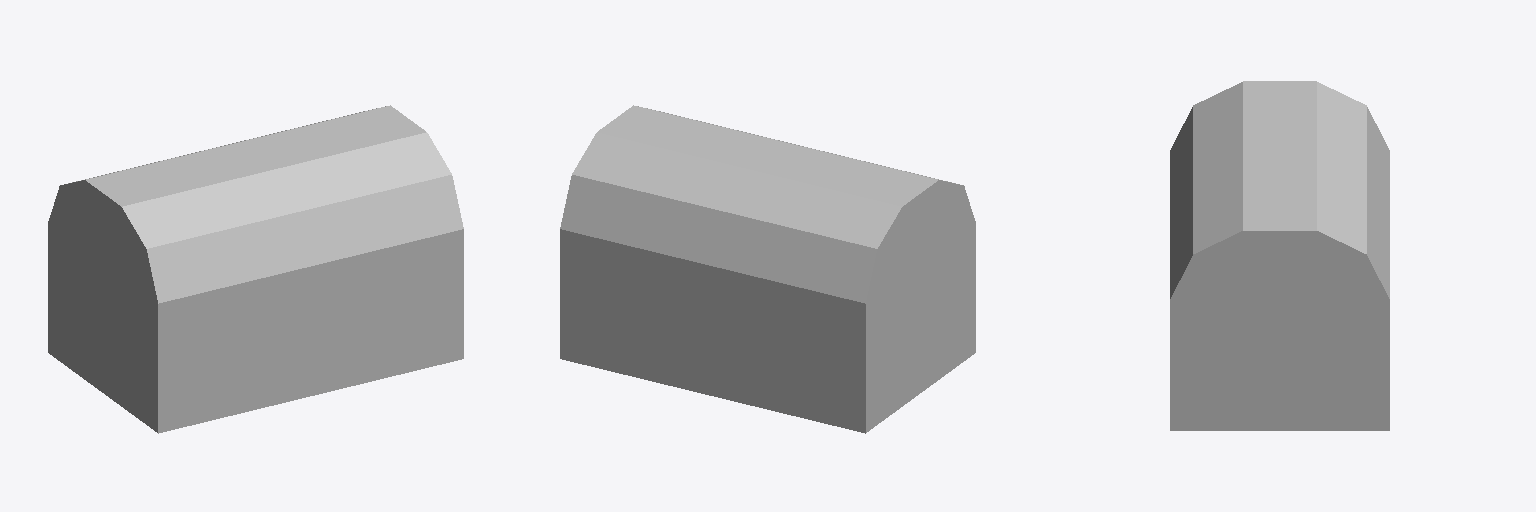
Rendered from chest_3_001.obj.
3 views of the same model, side by side, from view 1: azimuth 30°, elevation 25°; view 2: azimuth 150°, elevation 25°; view 3: azimuth 270°, elevation 25° (orthographic).
Parts seen in each view (by area): view 1: chest_1; view 2: chest_1; view 3: chest_1.
Part boxes in pixels (x1,y1,x2,y2): chest_1: (48, 105, 463, 433); chest_1: (560, 105, 975, 433); chest_1: (1170, 81, 1389, 430).
Bounding box in the file's own units: 3.2 × 2 × 2.